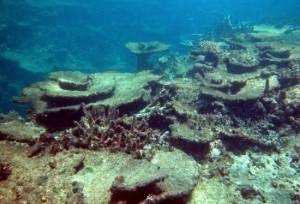bleached_corals: (191, 134, 300, 204), (54, 115, 156, 153)
